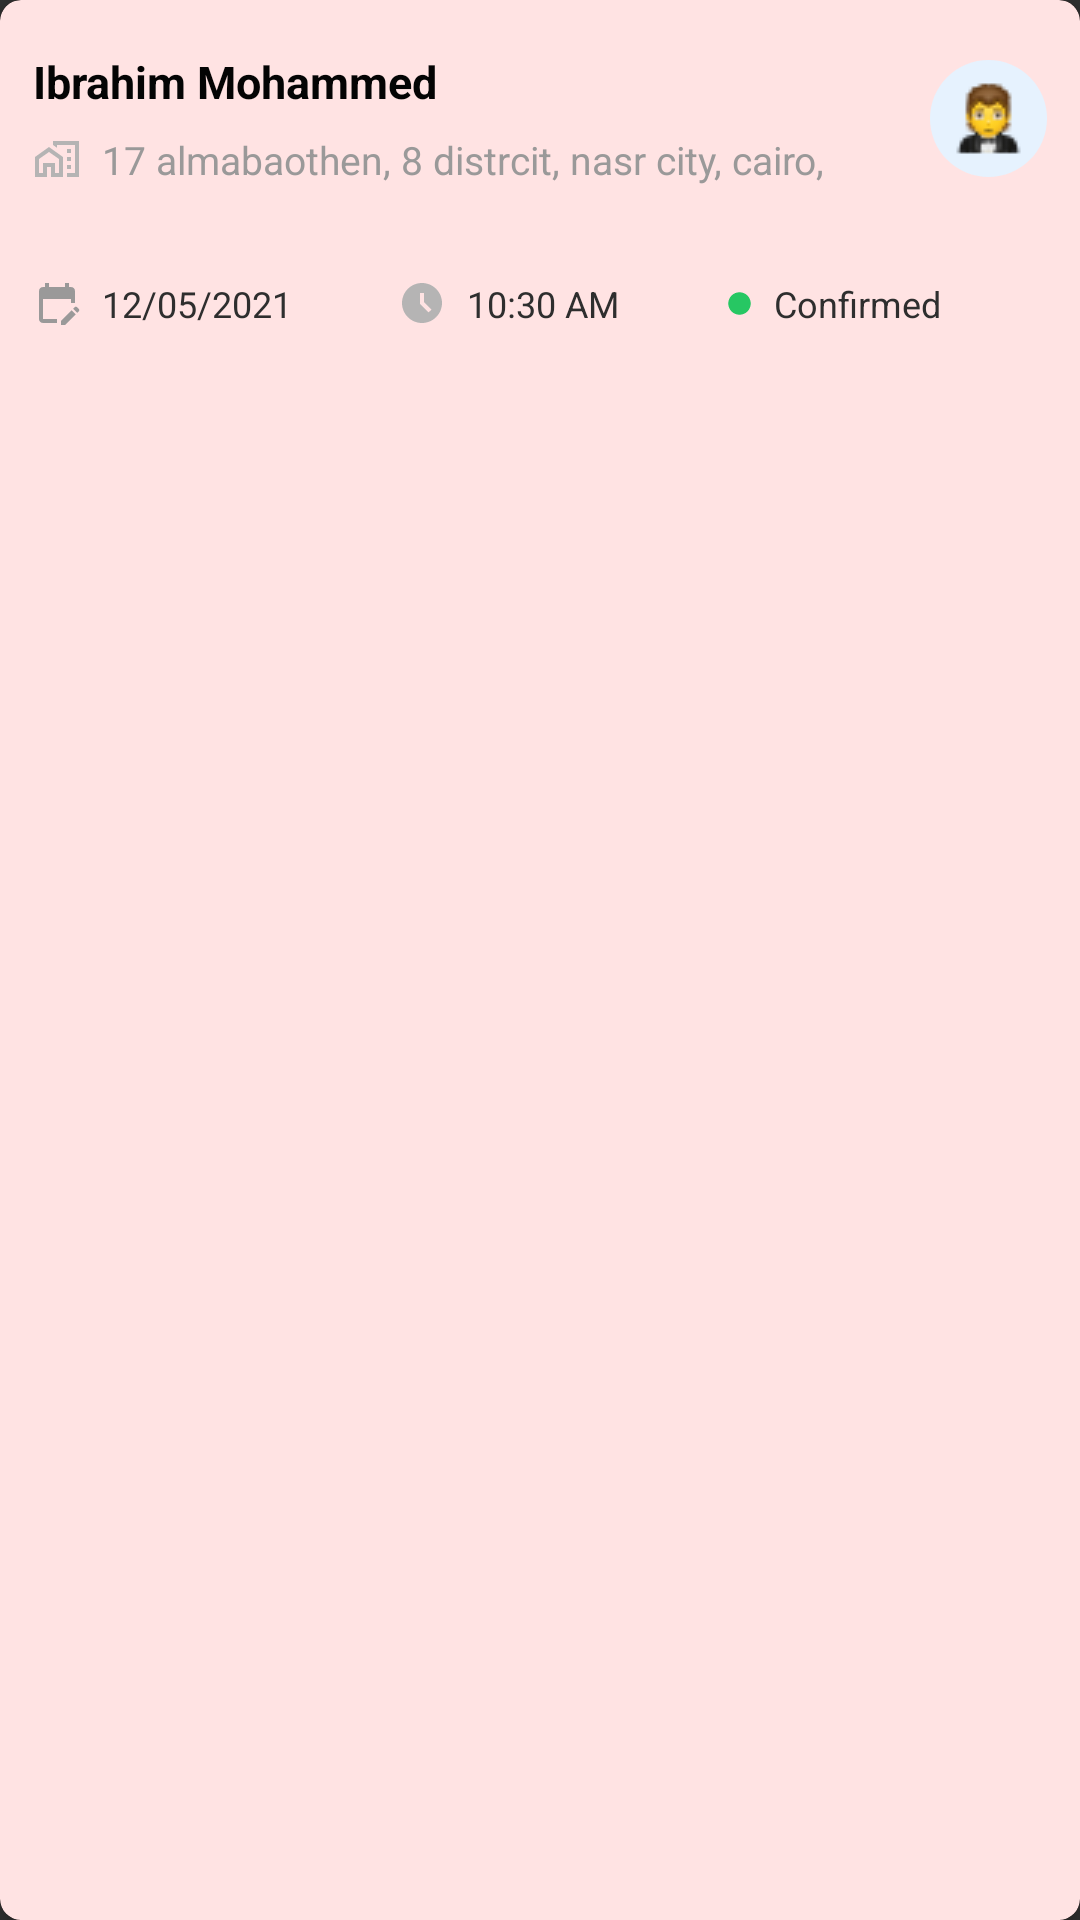

Icons on this 1080×1920 Android screen, each with its box as (x1, y1, x2, y2):
patient imaged: (930, 60, 1047, 177)
